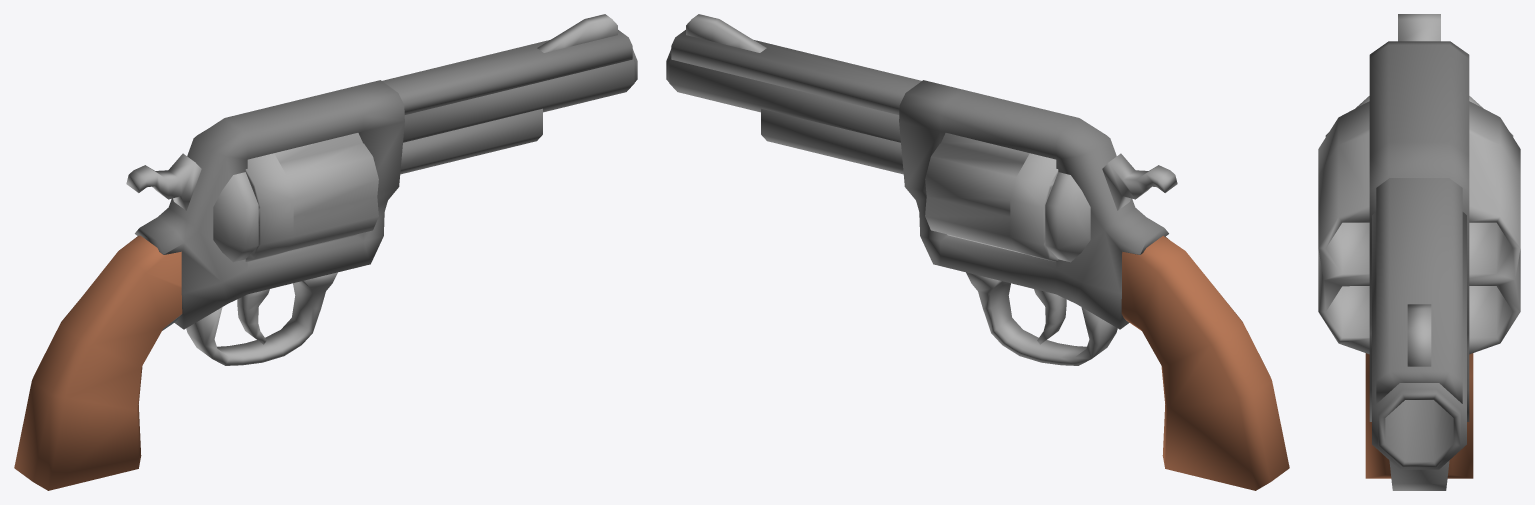
The model's file is Revolver.fbx.
The picture shows the model from 3 angles, left to right: view 1: azimuth 30°, elevation 25°; view 2: azimuth 150°, elevation 25°; view 3: azimuth 270°, elevation 25°; orthographic projection. The views are drawn at different scales.
Visible parts, largest first — view 1: Revolver_1; view 2: Revolver_1; view 3: Revolver_1.
Boxes of the visible parts, box(x1,y1,x2,y2) form: Revolver_1: box(14, 14, 637, 490); Revolver_1: box(666, 14, 1289, 490); Revolver_1: box(1318, 14, 1520, 490).
Size of the model in its own units: 3.04 by 1.56 by 0.5147.
